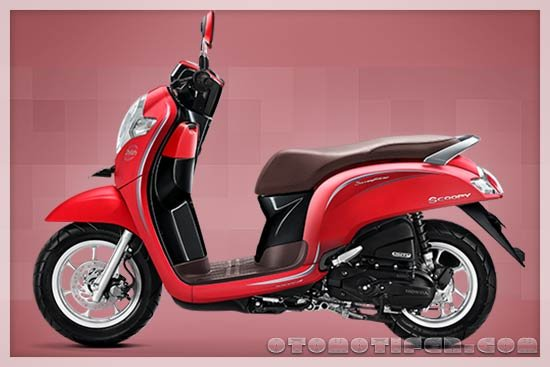motor: (53, 77, 516, 346)
